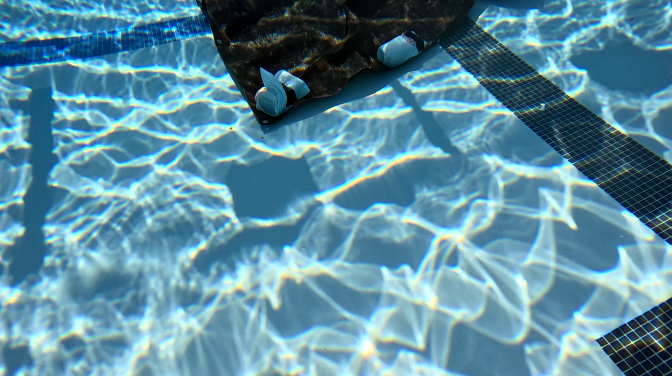sandbag: (196, 0, 475, 128)
